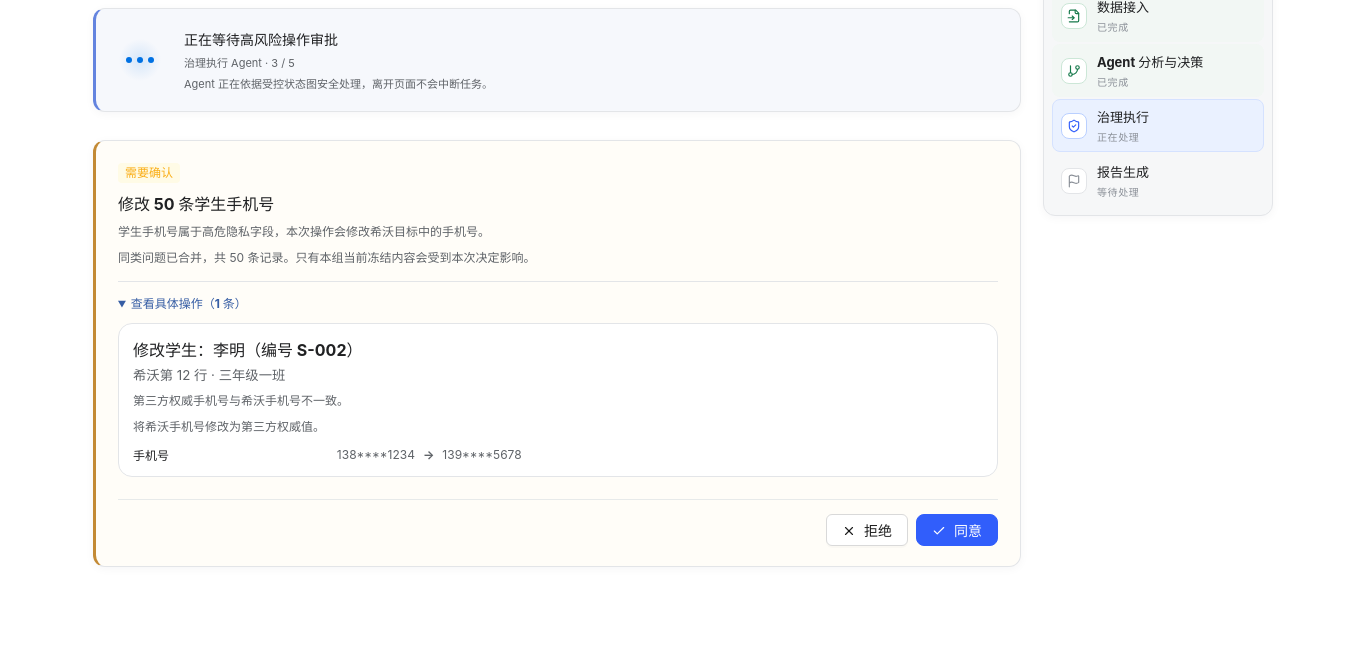
it: controlled Agent graph task detail › shows a rejected high-risk group as decided
(page scrolled)
What coordinates should you click on to do the following:
click the button "拒绝"
I would click on:
 (867, 530)
Its box is 826,514 -> 908,546.
(page scrolled)
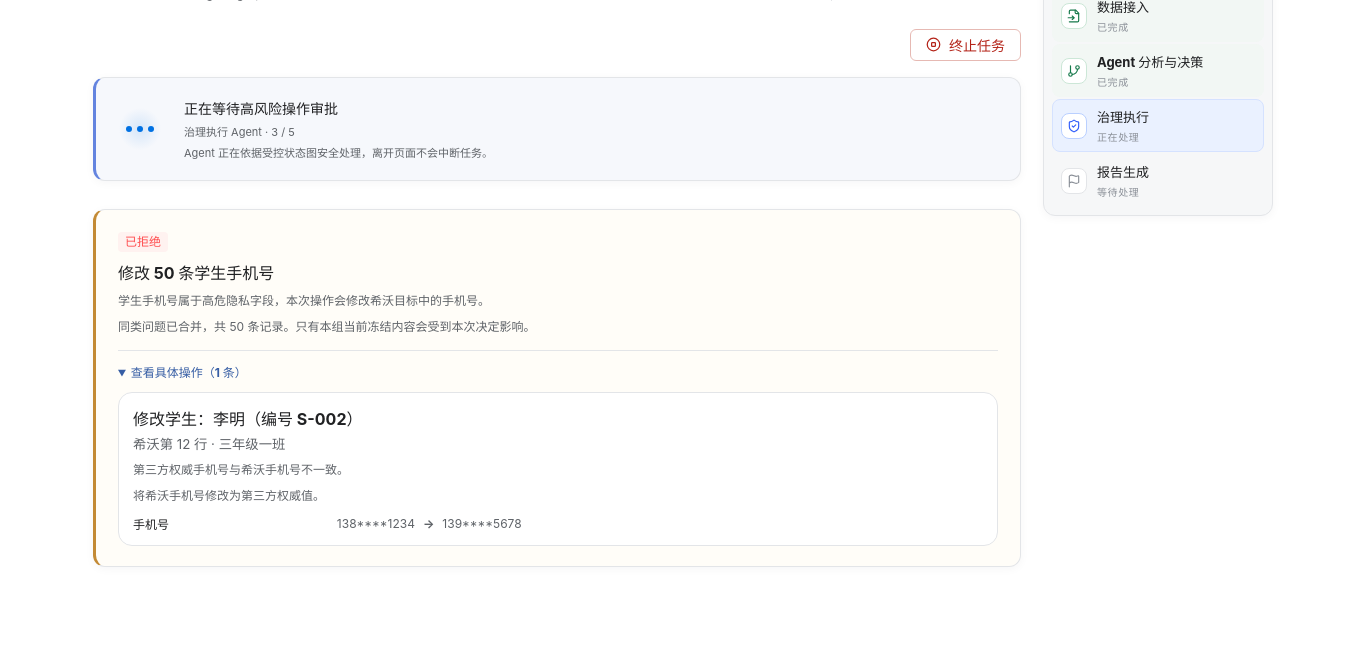
expect the text "已拒绝" is shown: met, box 118,232 -> 168,252
expect the button "同意" is gone: met
